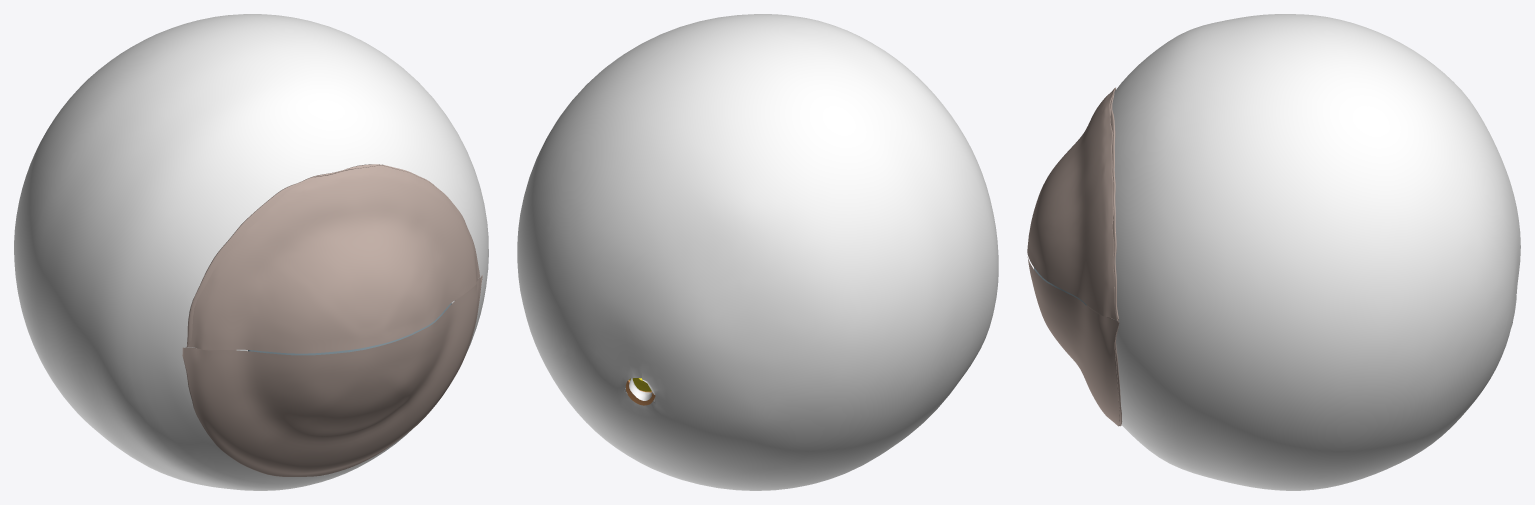
Rendered from hra-eye-left-female-v1.glb.
3 renders of one model, left to right at view 1: azimuth 30°, elevation 25°; view 2: azimuth 150°, elevation 25°; view 3: azimuth 270°, elevation 25°, orthographic.
Visible parts, largest first — view 1: VH_F_sclera_L, VH_F_palpebral_conjunctiva_of_left_upper_eyelid, VH_F_palpebral_conjunctiva_of_left_lower_eyelid, VH_F_bulbar_conjunctiva_L; view 2: VH_F_sclera_L; view 3: VH_F_sclera_L, VH_F_palpebral_conjunctiva_of_left_upper_eyelid, VH_F_palpebral_conjunctiva_of_left_lower_eyelid, VH_F_bulbar_conjunctiva_L.
Part boxes in pixels (left/top/right/bottom): VH_F_sclera_L: left=14, top=14, right=488, bottom=490; VH_F_palpebral_conjunctiva_of_left_upper_eyelid: left=186, top=165, right=479, bottom=353; VH_F_palpebral_conjunctiva_of_left_lower_eyelid: left=182, top=275, right=482, bottom=476; VH_F_bulbar_conjunctiva_L: left=185, top=164, right=479, bottom=350; VH_F_sclera_L: left=517, top=14, right=998, bottom=490; VH_F_sclera_L: left=1112, top=14, right=1520, bottom=490; VH_F_palpebral_conjunctiva_of_left_upper_eyelid: left=1027, top=90, right=1118, bottom=320; VH_F_palpebral_conjunctiva_of_left_lower_eyelid: left=1027, top=257, right=1120, bottom=426; VH_F_bulbar_conjunctiva_L: left=1086, top=87, right=1122, bottom=426.
Size of the model in its own units: 0.0245 by 0.0245 by 0.0254.
